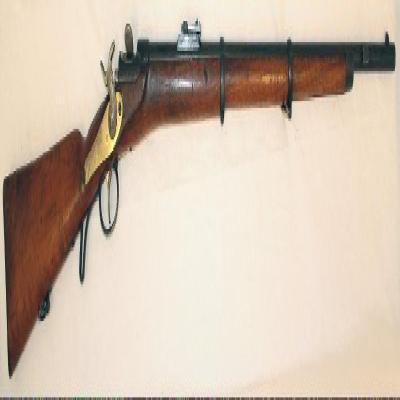weapon: (2, 24, 396, 379)
